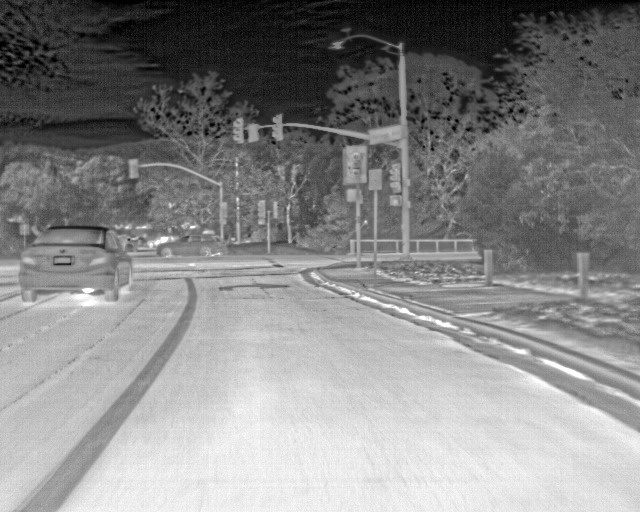vehicle: (20, 224, 133, 306), (158, 233, 226, 261)
